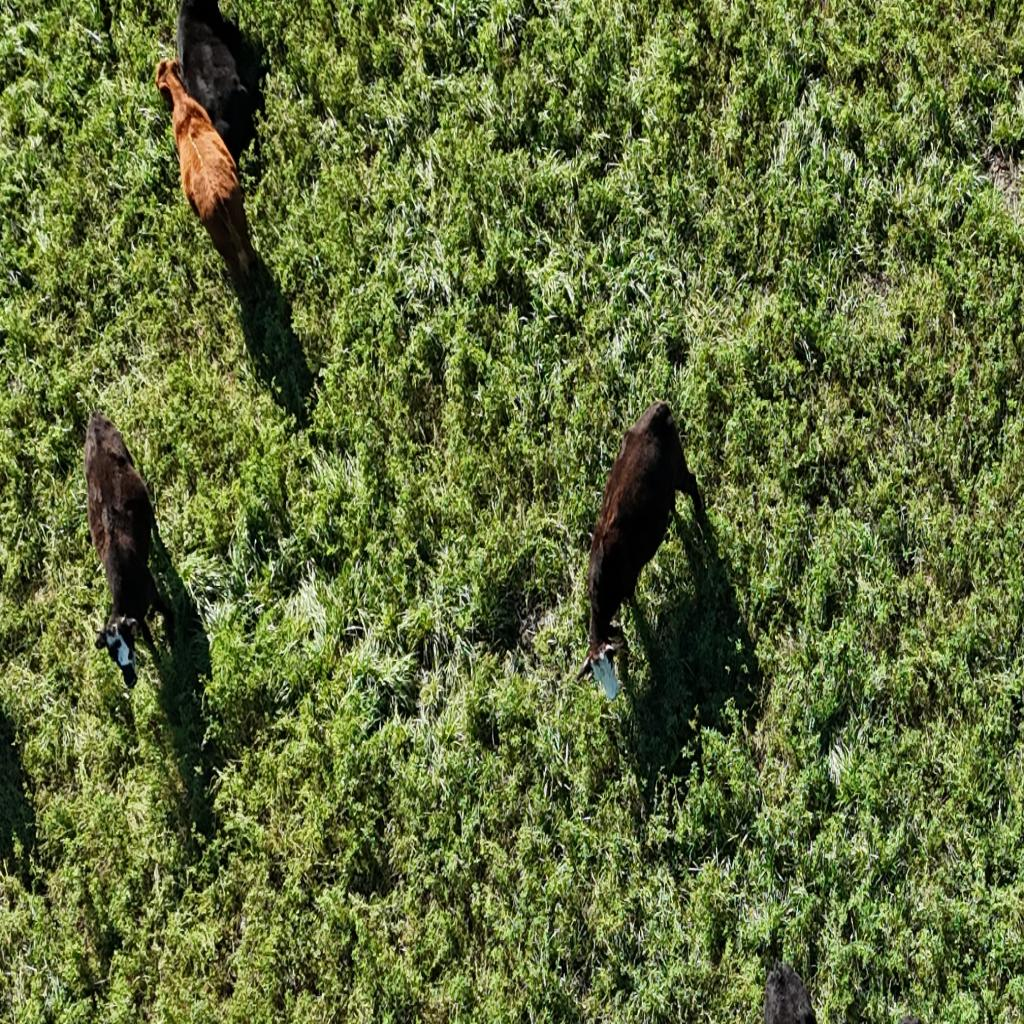cow: (562, 394, 710, 726), (83, 398, 174, 691), (137, 51, 248, 250)
